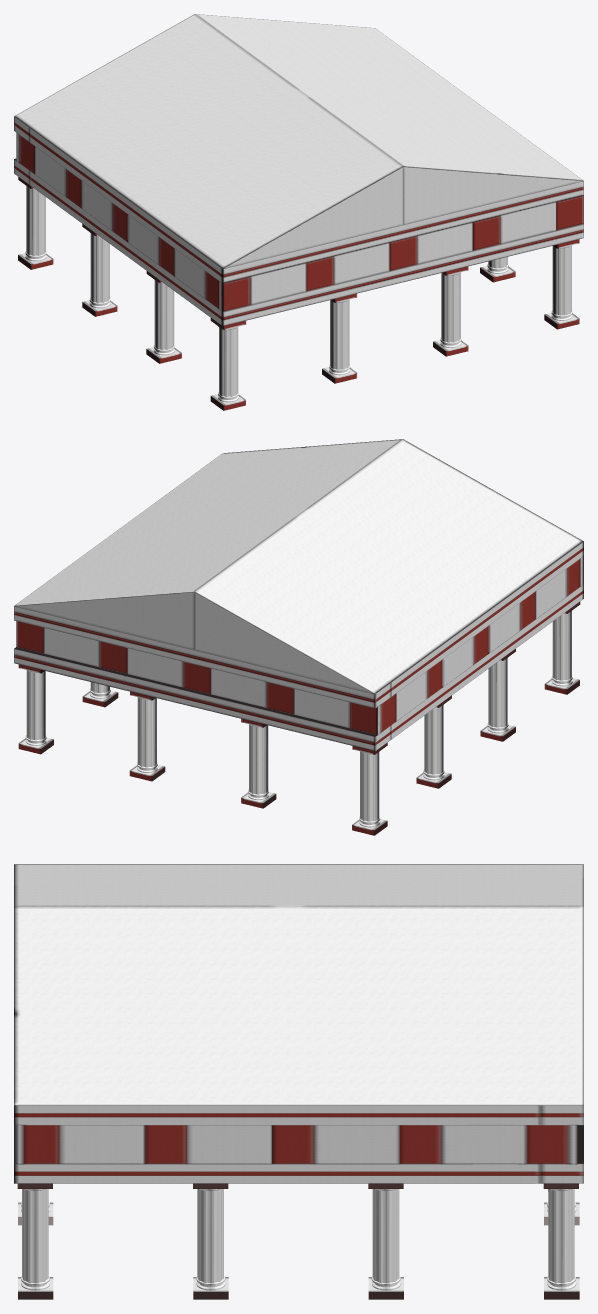
File: temple.fbx
3 views of the same model, one above another, from view 1: azimuth 30°, elevation 25°; view 2: azimuth 150°, elevation 25°; view 3: azimuth 270°, elevation 25° (orthographic). The views are drawn at different scales.
Parts seen in each view (by area): view 1: group17_pasted__pCube1; view 2: group17_pasted__pCube1; view 3: group17_pasted__pCube1.
Part boxes in pixels (x1,y1,x2,y2): group17_pasted__pCube1: [14, 14, 583, 410]; group17_pasted__pCube1: [14, 439, 583, 835]; group17_pasted__pCube1: [14, 864, 583, 1299].
Bounding box in the file's own units: 13 × 6.93 × 13.
